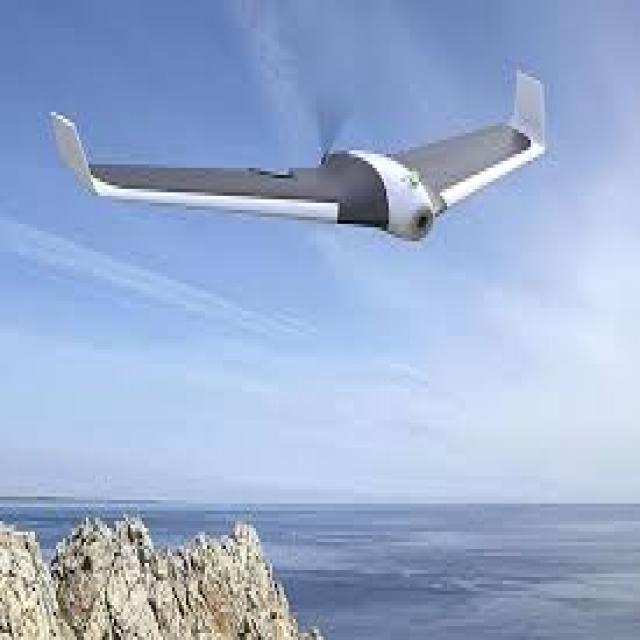iha: (45, 70, 640, 301)
